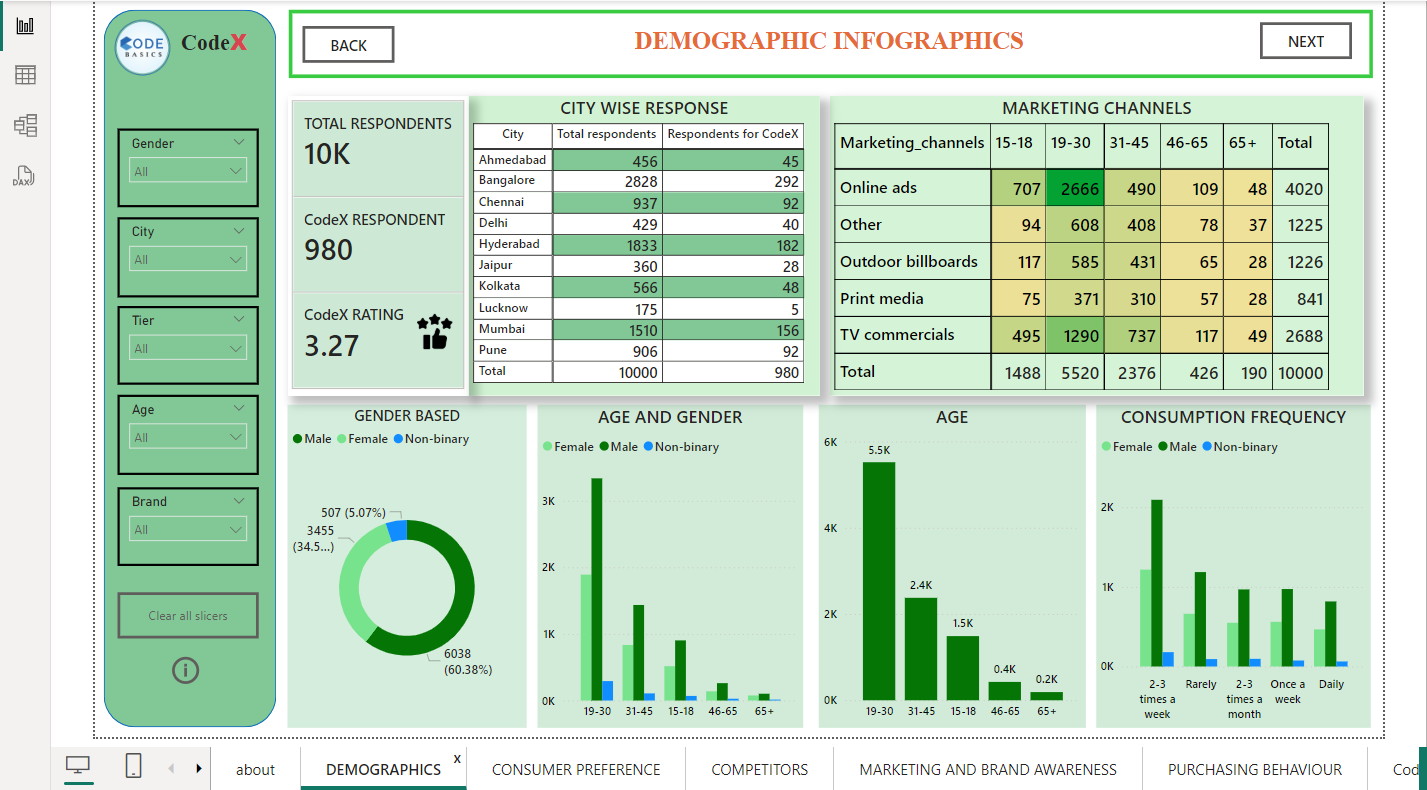

This screenshot's page, from the dashboard's own definition file:
{"tool":"powerbi","page":{"name":"DEMOGRAPHICS","canvas":[1400,800],"ordinal":1},"visuals":[{"type":"shape","box":[9.5,9.5,187.5,779.9],"z":0},{"type":"image","box":[0,13.6,103.3,74.7],"z":1000},{"type":"textbox","box":[88.3,21.7,90,53.3],"z":2000},{"type":"shape","box":[210,10,1178.6,74.3],"z":3000},{"type":"cardVisual","fields":{"Data":["respondent_list.total count","survey_response_list.TOTAL CodeX RESPONDENT","survey_response_list.RATING"]},"box":[208.6,102.9,197.1,325.7],"z":4000},{"type":"pivotTable","title":"CITY WISE RESPONSE","fields":{"Values":["respondent_list.total count","survey_response_list.TOTAL CodeX RESPONDENT"],"Rows":["response_city_list.City"]},"box":[405.7,102.9,381.4,325.7],"z":5000},{"type":"pieChart","title":"GENDER BASED","fields":{"Category":["respondent_list.Gender"],"Y":["CountNonNull(respondent_list.Gender)"]},"box":[208.6,438.6,260,351.4],"z":6000},{"type":"clusteredColumnChart","title":"AGE AND GENDER","fields":{"Category":["respondent_list.Age"],"Series":["respondent_list.Gender"],"Y":["respondent_list.total count"]},"box":[481.4,438.6,288.6,351.4],"z":7000},{"type":"clusteredColumnChart","title":"AGE ","fields":{"Category":["respondent_list.Age"],"Y":["respondent_list.total count"]},"box":[787.1,438.6,290,351.4],"z":8000},{"type":"clusteredColumnChart","title":"CONSUMPTION FREQUENCY","fields":{"Series":["respondent_list.Gender"],"Y":["respondent_list.total count"],"Category":["survey_response_list.Consume_frequency"]},"box":[1088.6,438.6,298.6,351.4],"z":9000},{"type":"pivotTable","title":"MARKETING CHANNELS","fields":{"Rows":["survey_response_list.Marketing_channels"],"Columns":["respondent_list.Age"],"Values":["respondent_list.total count"]},"box":[798.6,102.9,580,325.7],"z":10000},{"type":"slicer","fields":{"Values":["respondent_list.Gender"]},"box":[24.5,138.6,153.5,85.6],"z":11000},{"type":"slicer","fields":{"Values":["response_city_list.City"]},"box":[24.5,235.1,153.5,87],"z":12000},{"type":"slicer","fields":{"Values":["response_city_list.Tier"]},"box":[24.5,331.5,153.5,85.6],"z":13000},{"type":"slicer","fields":{"Values":["respondent_list.Age"]},"box":[24.5,428,153.5,87],"z":14000},{"type":"slicer","fields":{"Values":["survey_response_list.Current_brands"]},"box":[24.5,528.5,153.5,85.6],"z":15000},{"type":"actionButton","box":[24.5,642.7,153.5,50.3],"z":16000},{"type":"actionButton","box":[78.8,707.9,99.2,39.4],"z":17000},{"type":"textbox","box":[581.4,22.9,465.7,48.6],"z":19000},{"type":"actionButton","box":[1265.7,22.9,100,40],"z":20000},{"type":"actionButton","box":[225.7,27.1,100,40],"z":21000}]}

Visuals, with their boxes on the page's 1400x800 design canvas (x1, y1, x2, y2). These are canvas units, not pixel positions in the 1427x790 screenshot, which may show the page scaled, cropped or inside an application window:
shape: BBox(10, 10, 197, 789)
image: BBox(0, 14, 103, 88)
textbox: BBox(88, 22, 178, 75)
shape: BBox(210, 10, 1389, 84)
cardVisual - respondent_list.total count x survey_response_list.TOTAL CodeX RESPONDENT: BBox(209, 103, 406, 429)
"CITY WISE RESPONSE" pivotTable: BBox(406, 103, 787, 429)
"GENDER BASED" pieChart: BBox(209, 439, 469, 790)
"AGE AND GENDER" clusteredColumnChart: BBox(481, 439, 770, 790)
"AGE " clusteredColumnChart: BBox(787, 439, 1077, 790)
"CONSUMPTION FREQUENCY" clusteredColumnChart: BBox(1089, 439, 1387, 790)
"MARKETING CHANNELS" pivotTable: BBox(799, 103, 1379, 429)
slicer - respondent_list.Gender: BBox(24, 139, 178, 224)
slicer - response_city_list.City: BBox(24, 235, 178, 322)
slicer - response_city_list.Tier: BBox(24, 332, 178, 417)
slicer - respondent_list.Age: BBox(24, 428, 178, 515)
slicer - survey_response_list.Current_brands: BBox(24, 528, 178, 614)
actionButton: BBox(24, 643, 178, 693)
actionButton: BBox(79, 708, 178, 747)
textbox: BBox(581, 23, 1047, 72)
actionButton: BBox(1266, 23, 1366, 63)
actionButton: BBox(226, 27, 326, 67)
